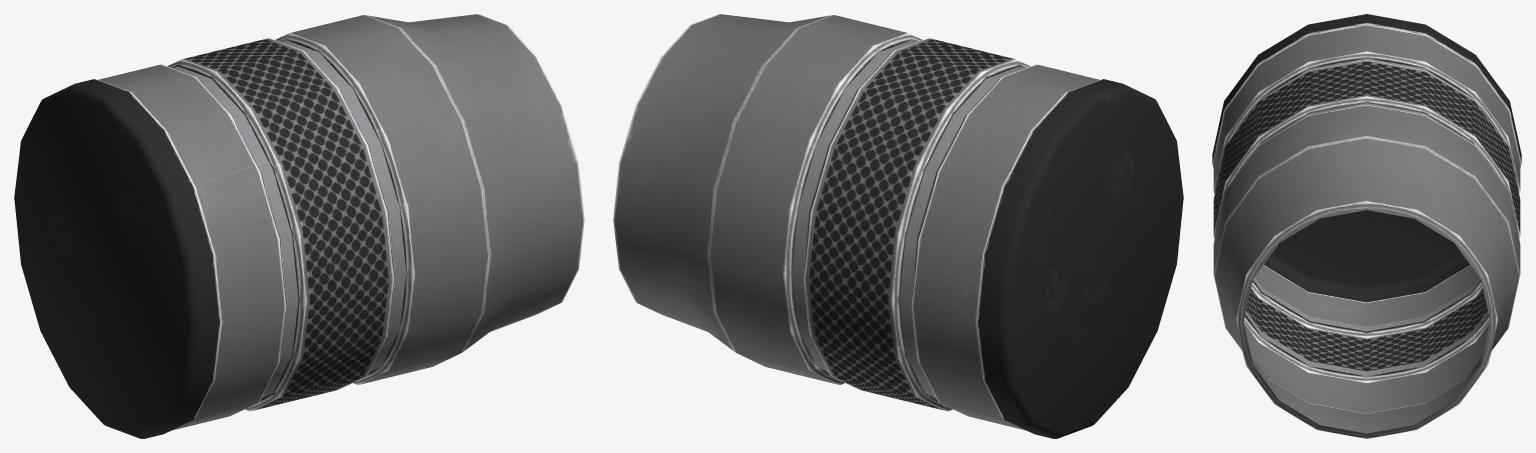
Rendered from pommel_15_c_a.glb.
3 views of the same model, side by side, from view 1: azimuth 30°, elevation 25°; view 2: azimuth 150°, elevation 25°; view 3: azimuth 270°, elevation 25° (orthographic). The views are drawn at different scales.
Parts seen in each view (by area): view 1: pommel_15_c_a_lod0; view 2: pommel_15_c_a_lod0; view 3: pommel_15_c_a_lod0.
Part boxes in pixels (<box>): pommel_15_c_a_lod0: <box>14,14,584,438</box>; pommel_15_c_a_lod0: <box>613,14,1183,438</box>; pommel_15_c_a_lod0: <box>1212,14,1521,438</box>.
Size of what is drawn, in the model's own units: 0.0465 by 0.0357 by 0.0357.
1 material, 1 textured.
